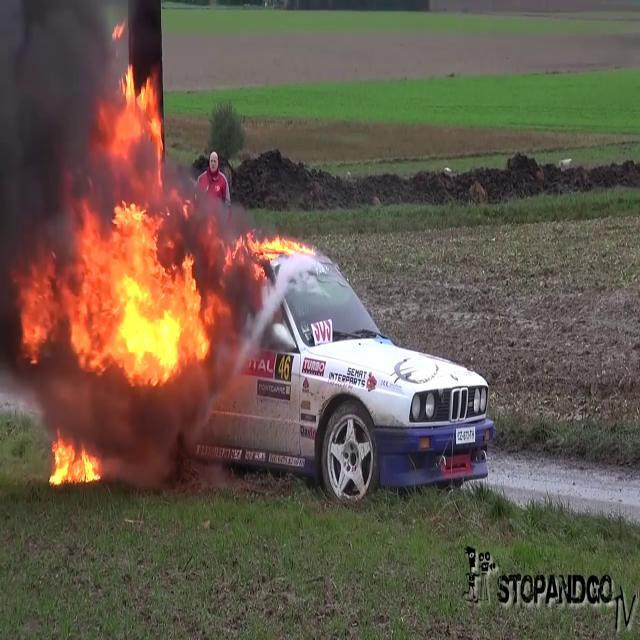Fire: (20, 64, 222, 386), (234, 226, 319, 273), (46, 430, 104, 492)
Smoke: (0, 1, 116, 229)
